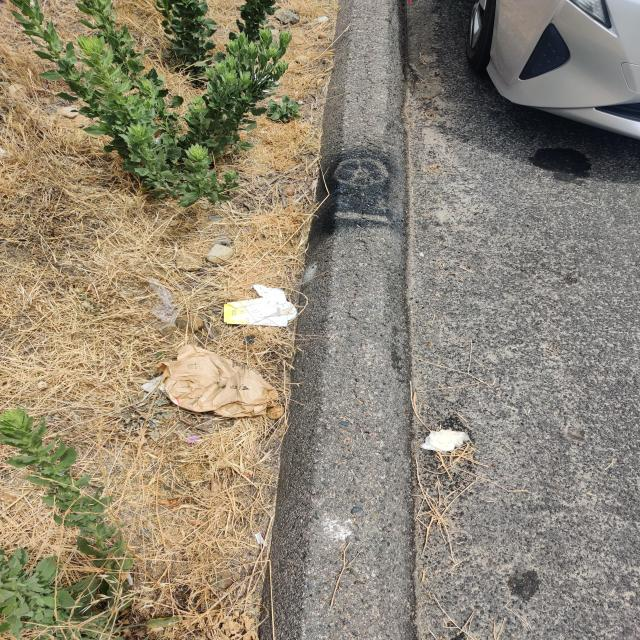litter: (132, 258, 323, 436)
